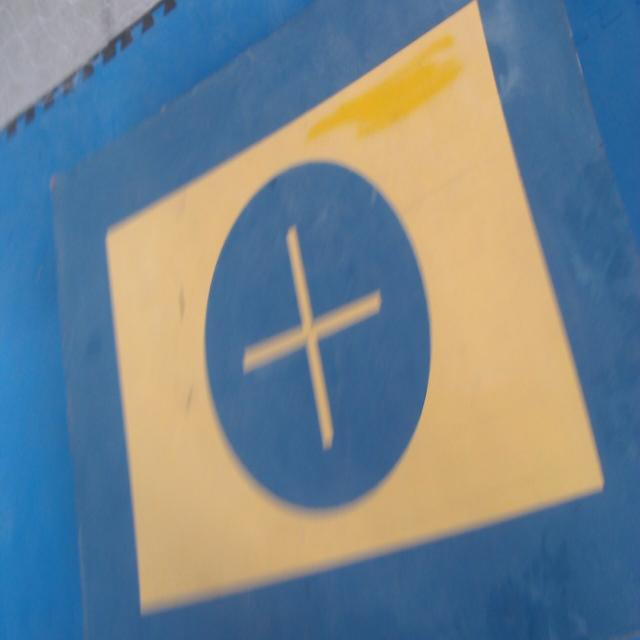base_inicio: (106, 0, 603, 615)
